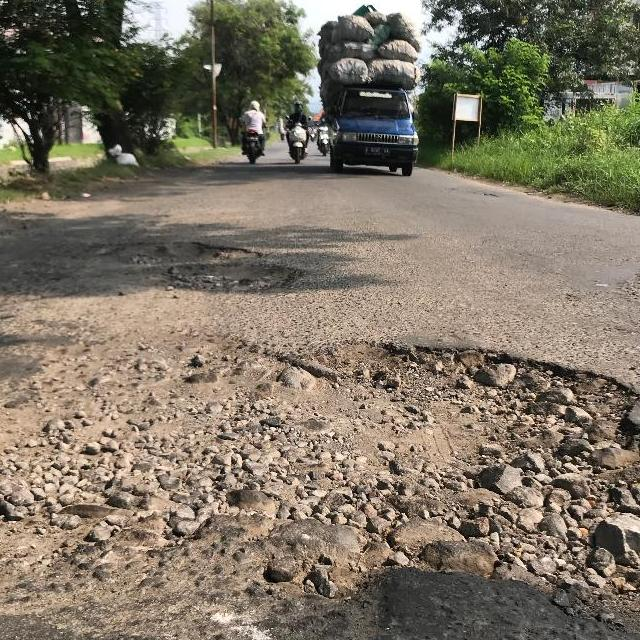lubang_kecil: (0, 315, 640, 640), (74, 231, 281, 268), (146, 261, 329, 301)
